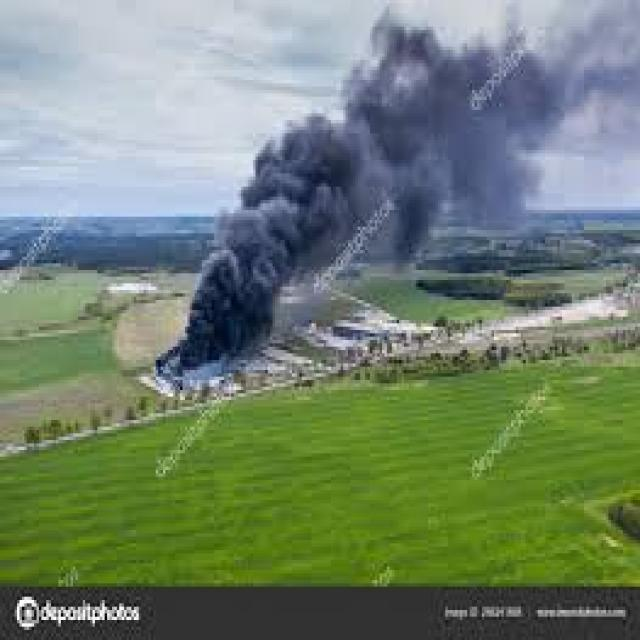Smoke: (426, 0, 640, 224), (269, 8, 424, 286), (157, 144, 271, 386)
